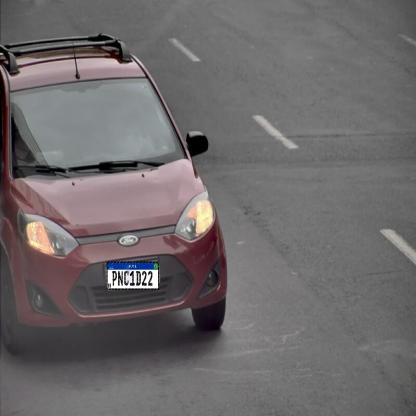PlacaM: (107, 261, 159, 290)
